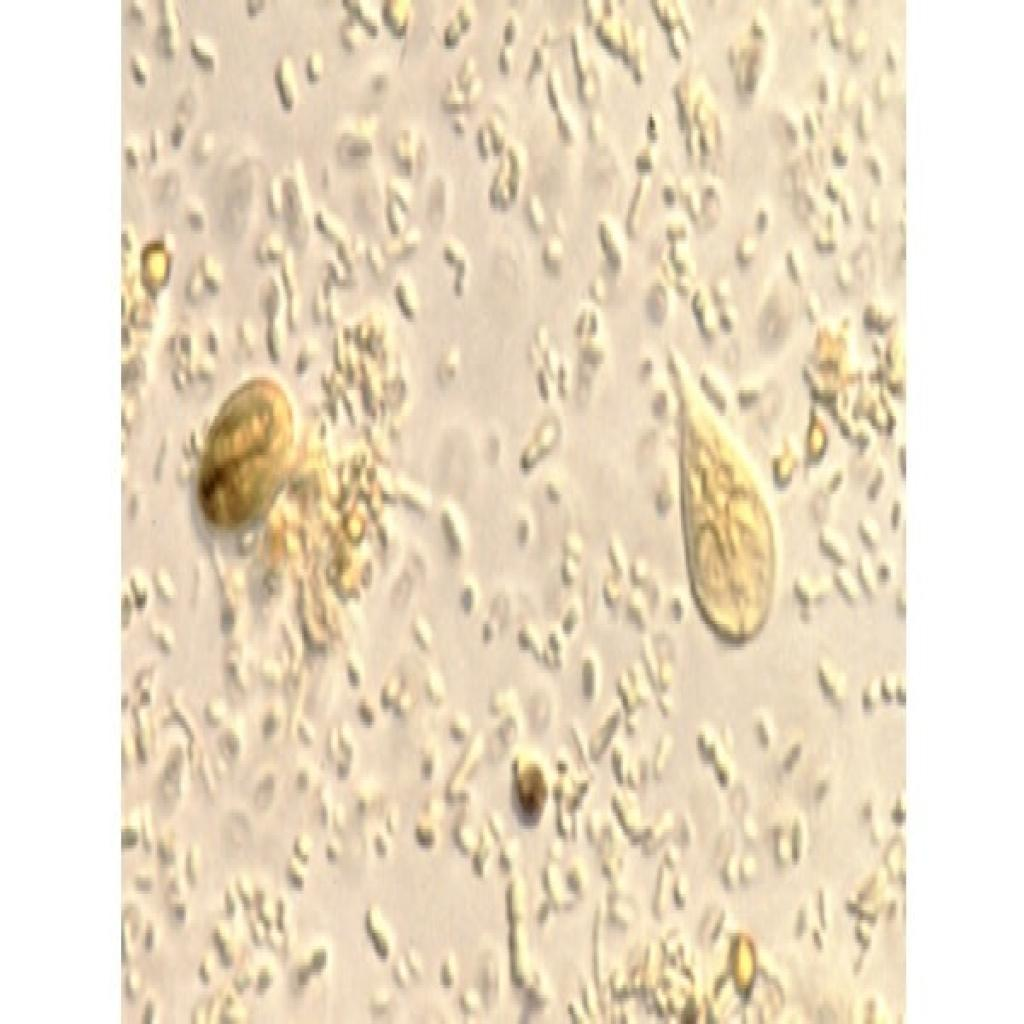Giardia: (664, 342, 780, 654)
